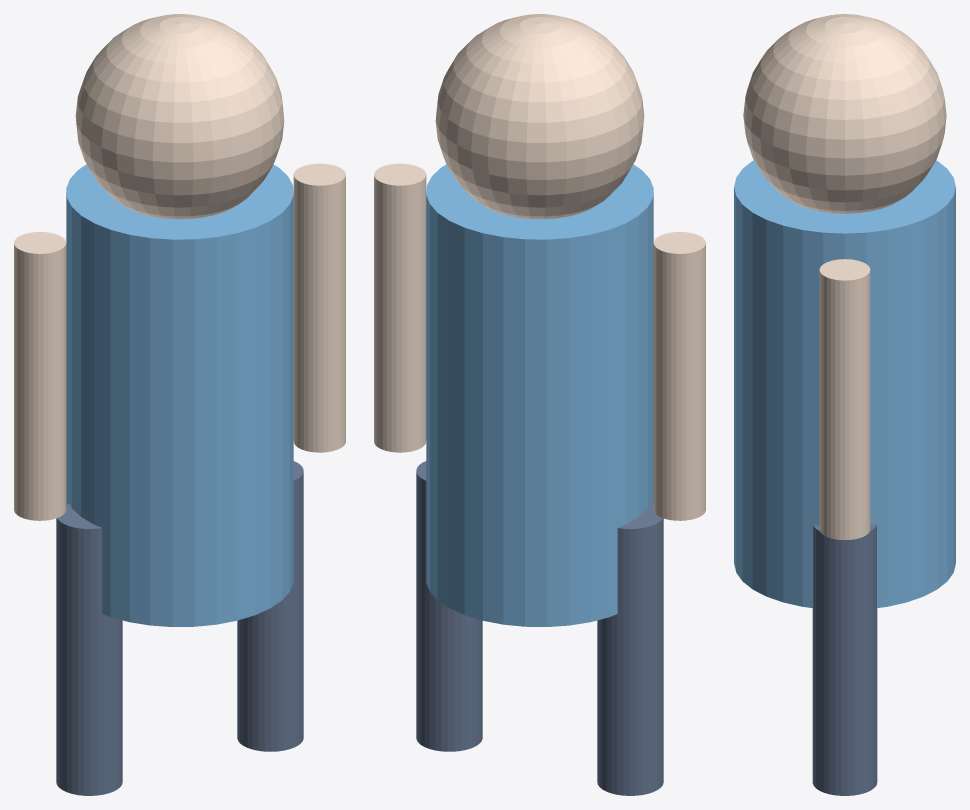
File: vet_character.glb
The picture shows the model from 3 angles, left to right: view 1: azimuth 30°, elevation 25°; view 2: azimuth 150°, elevation 25°; view 3: azimuth 270°, elevation 25°; orthographic projection. The views are drawn at different scales.
Visible parts, largest first — view 1: VetCharacter; view 2: VetCharacter; view 3: VetCharacter.
Part boxes in pixels (left/top/right/bottom): VetCharacter: left=14, top=14, right=345, bottom=795; VetCharacter: left=374, top=14, right=705, bottom=795; VetCharacter: left=734, top=14, right=955, bottom=795.
Size of the model in its own units: 0.79 by 1.71 by 0.48.
